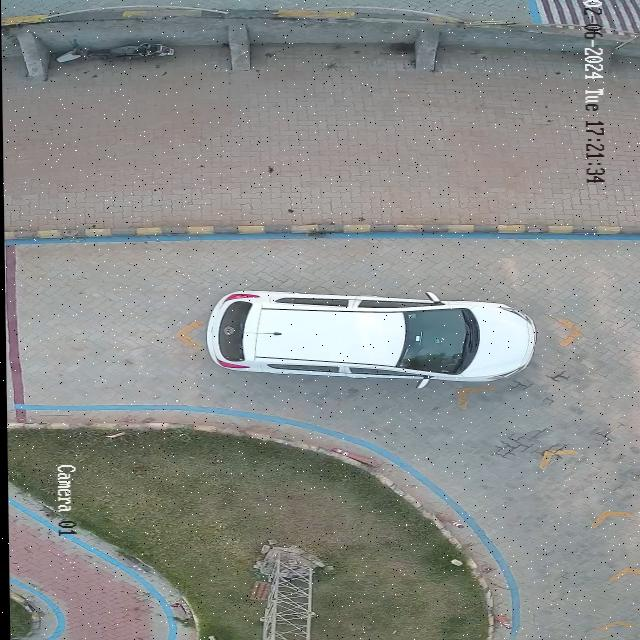car: (204, 291, 533, 388)
